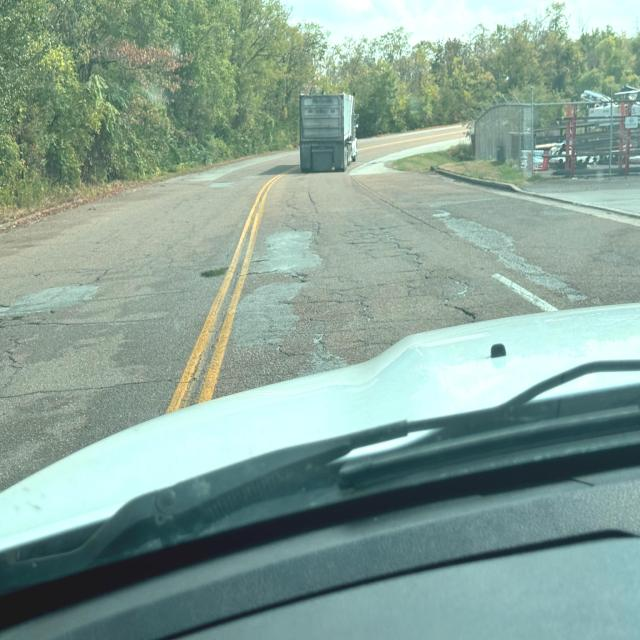pothole: (200, 268, 228, 280)
